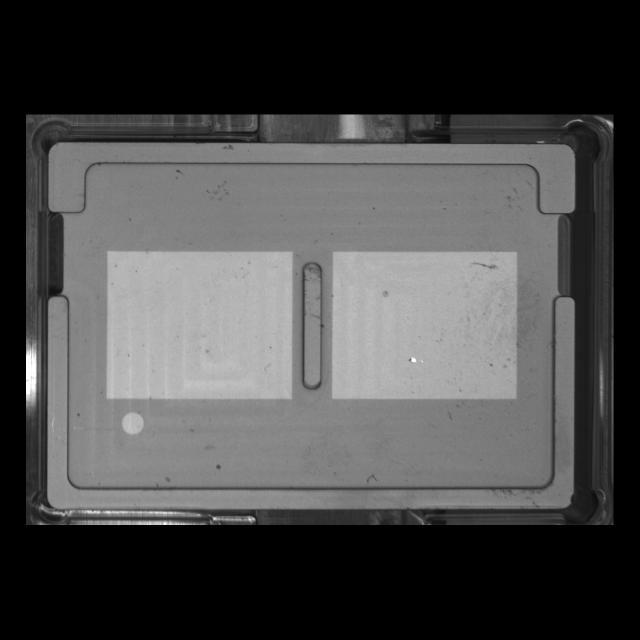door: (38, 132, 592, 230)
point: (118, 408, 148, 438)
